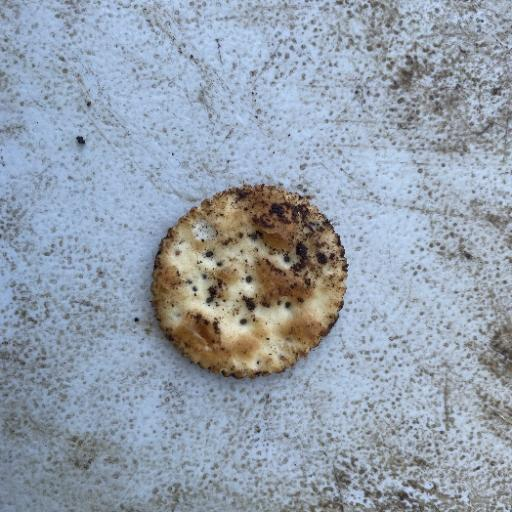Waste: (148, 182, 349, 380)
